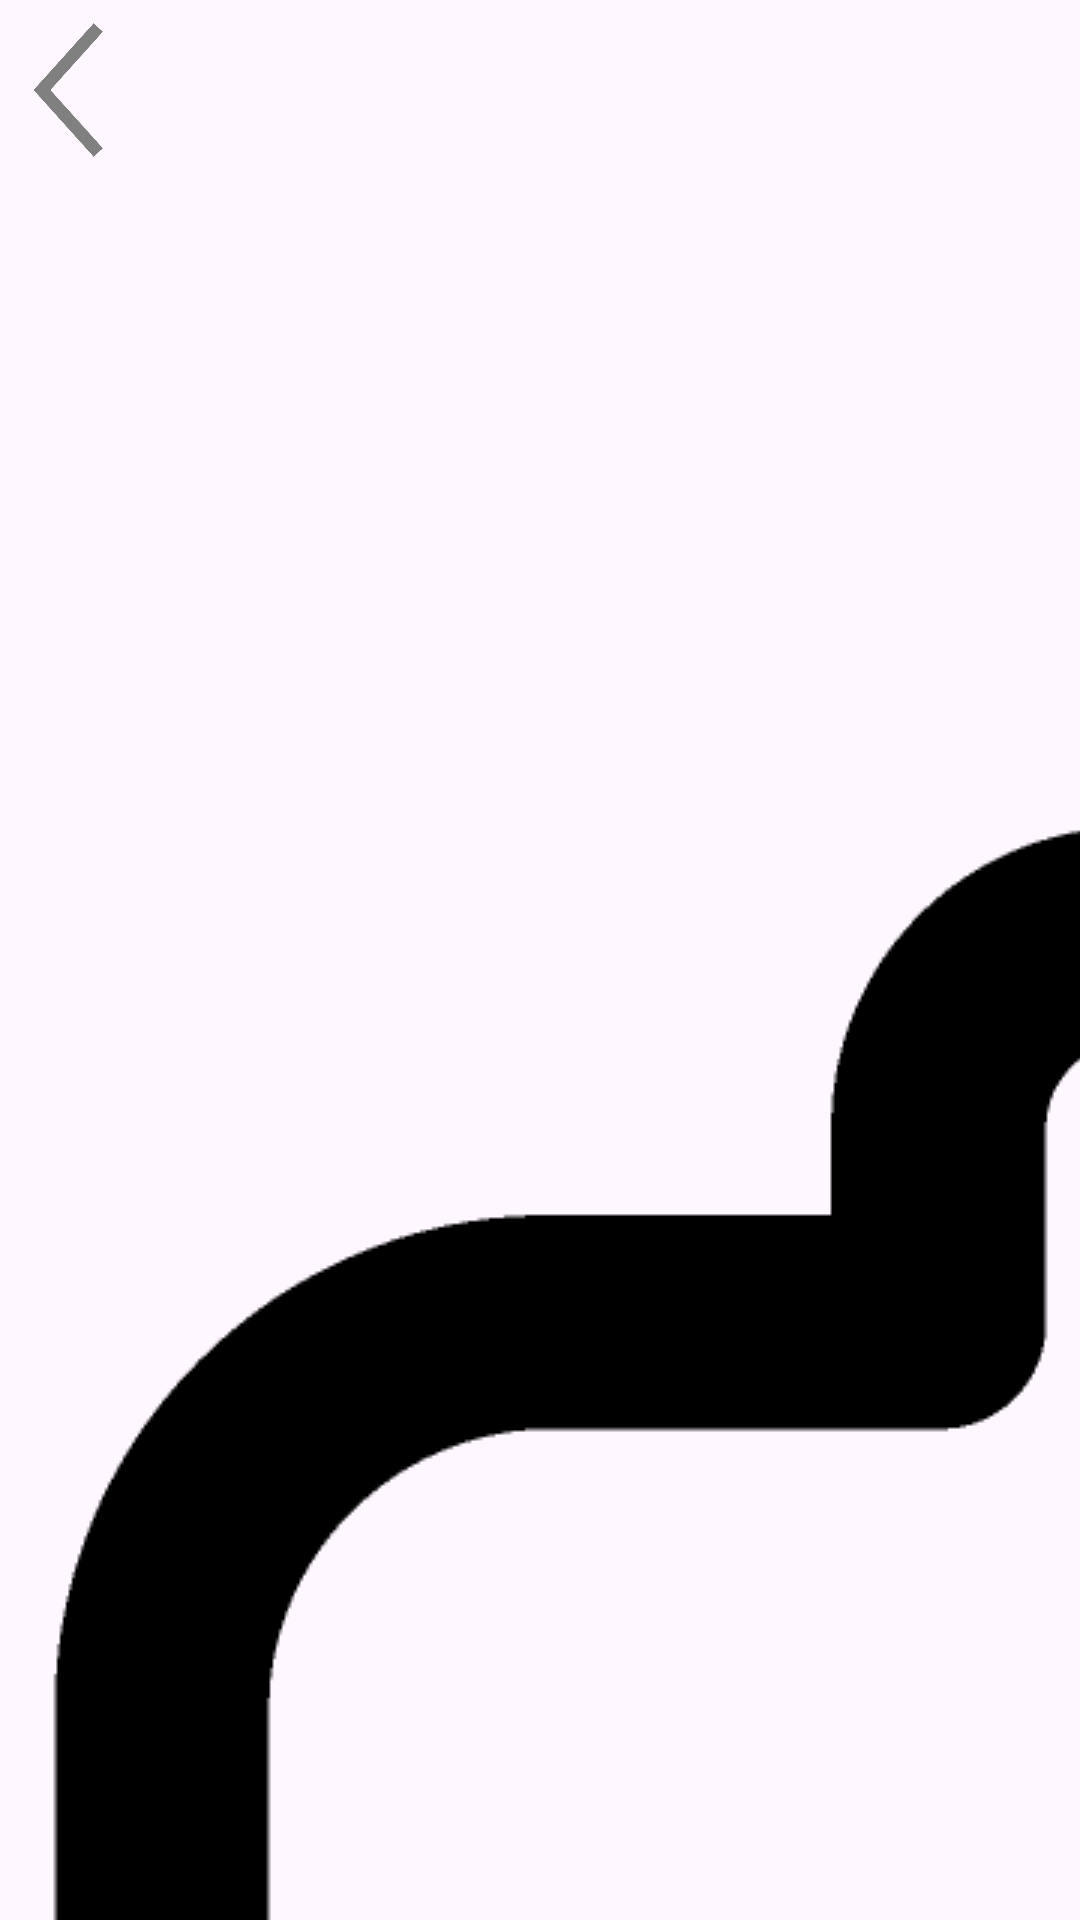

Locate icon controls on the screen. Image size 1080x1920, boxes as box=[x1, y1, x2, y2].
arrow left: box=[34, 23, 103, 157]
